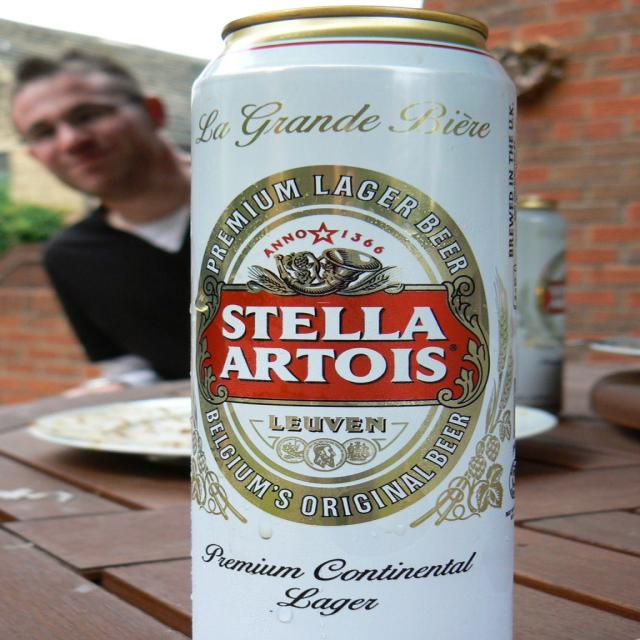stellaartois: (194, 164, 495, 529)
